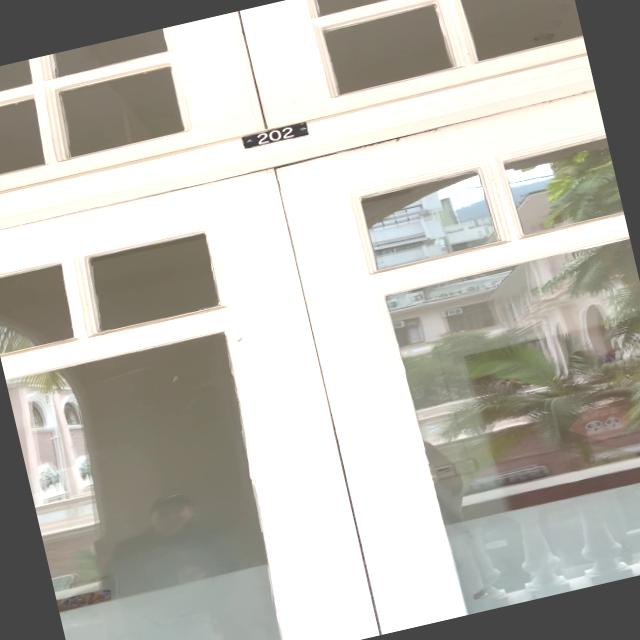room202: (230, 116, 318, 155)
